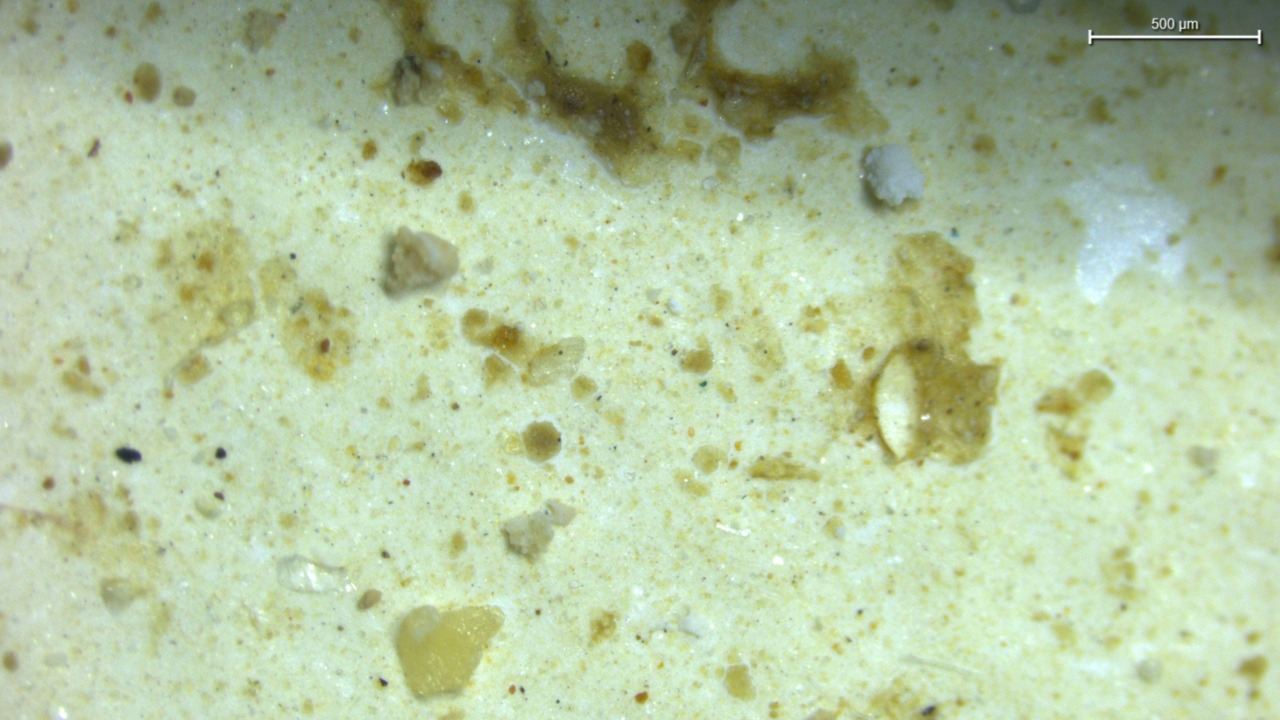microplastic_fragment: (396, 606, 504, 697), (382, 227, 458, 296), (501, 500, 576, 556), (863, 144, 924, 206), (280, 555, 354, 593)
